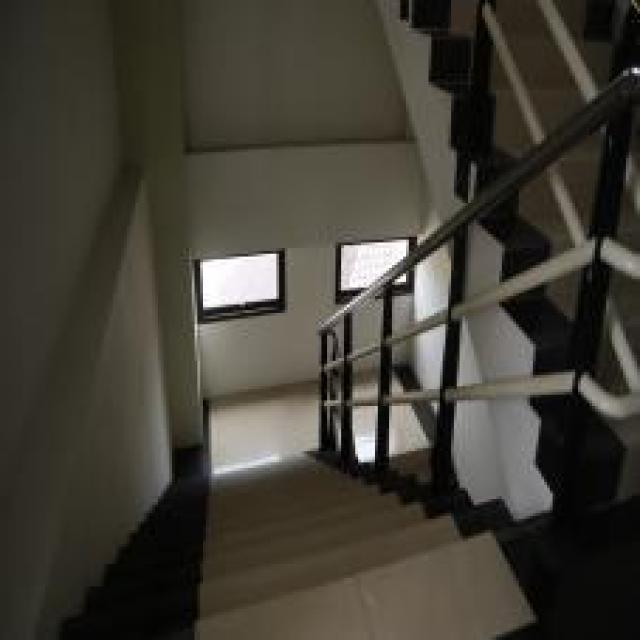downstair: (176, 492, 401, 638)
